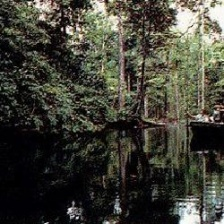neutral: (4, 2, 223, 222)
